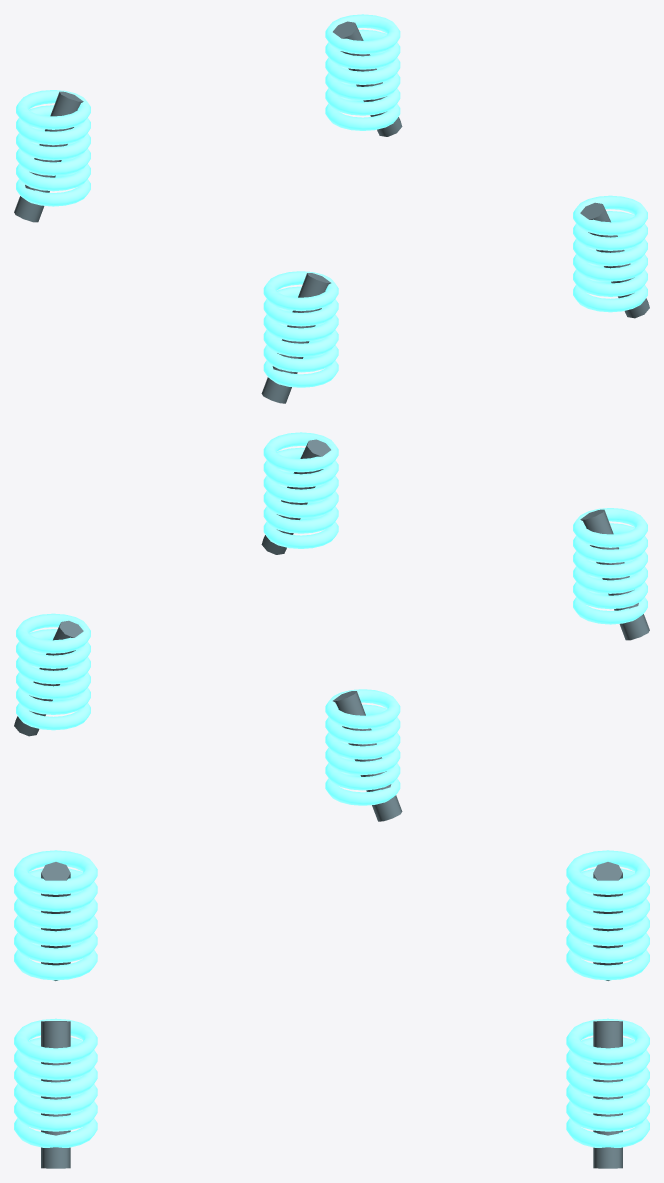
The model's file is upgrade-coil_springs.glb.
3 views of the same model, one above another, from view 1: azimuth 30°, elevation 25°; view 2: azimuth 150°, elevation 25°; view 3: azimuth 270°, elevation 25° (orthographic). The views are drawn at different scales.
Parts seen in each view (by area): view 1: upgrade-coil_springs; view 2: upgrade-coil_springs; view 3: upgrade-coil_springs.
Boxes of the visible parts, x1,y1,x2,y2 form: upgrade-coil_springs: [14, 14, 649, 403]; upgrade-coil_springs: [14, 432, 649, 821]; upgrade-coil_springs: [14, 850, 649, 1168].
Bounding box in the file's own units: 1.84 × 0.5439 × 2.36.
